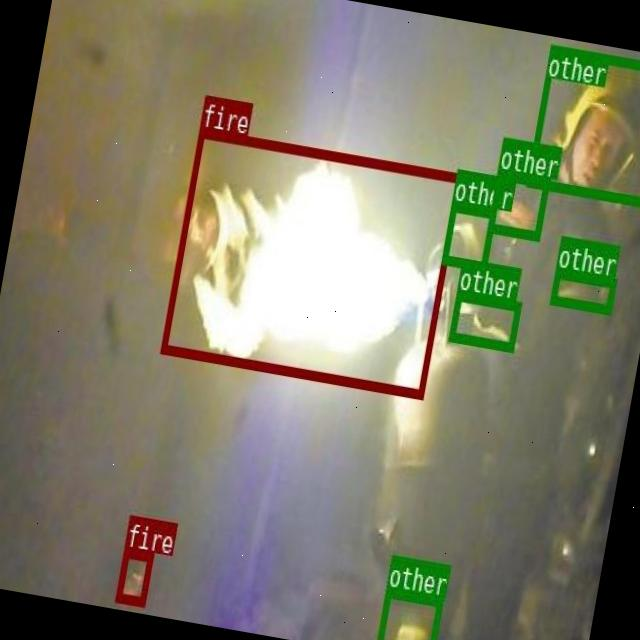fire: (159, 127, 462, 398), (114, 546, 152, 604)
